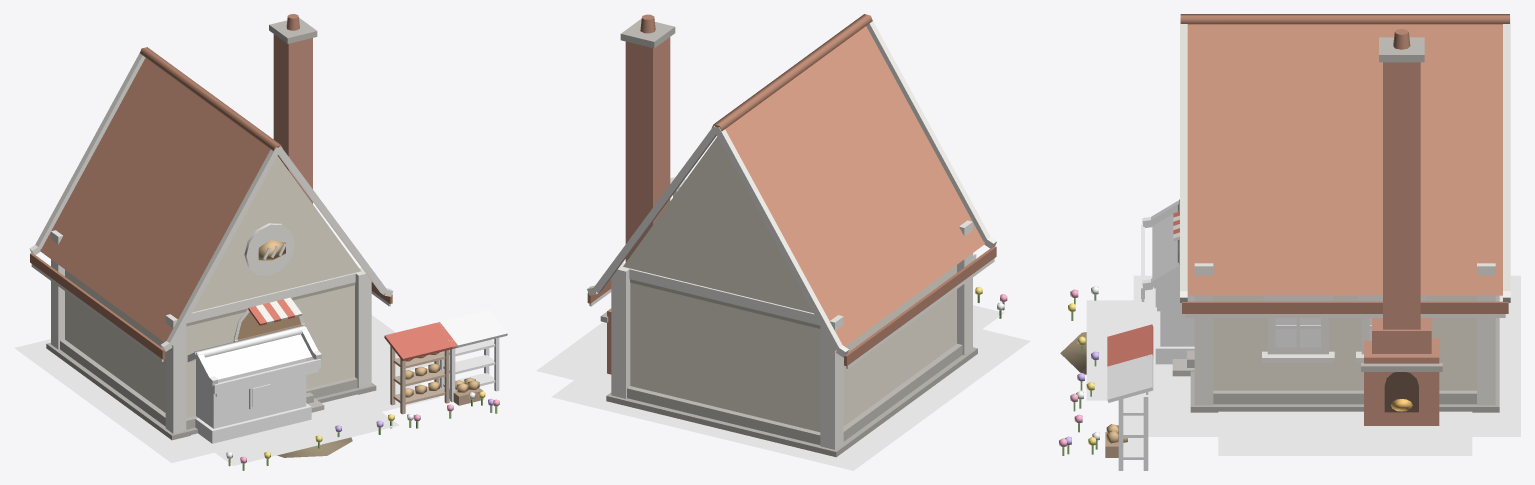
The model's file is bakery_2.glb.
3 renders of one model, left to right at view 1: azimuth 30°, elevation 25°; view 2: azimuth 150°, elevation 25°; view 3: azimuth 270°, elevation 25°, orthographic. The views are drawn at different scales.
Parts seen in each view (by area): view 1: body4, when_plan_true, bakery_2, body3; view 2: body4, bakery_2; view 3: body4, bakery_2, when_plan_true, body3.
Part boxes in pixels (x1,y1,x2,y2): body4: [29, 14, 499, 470]; when_plan_true: [187, 310, 507, 443]; bakery_2: [14, 315, 439, 465]; body3: [405, 352, 483, 405]; body4: [587, 14, 1007, 457]; bakery_2: [536, 305, 1030, 470]; body4: [1059, 14, 1510, 455]; bakery_2: [1086, 275, 1520, 455]; when_plan_true: [1107, 199, 1194, 470]; body3: [1105, 424, 1127, 457].
Bounding box in the file's own units: 2.8 × 2.58 × 2.8.
